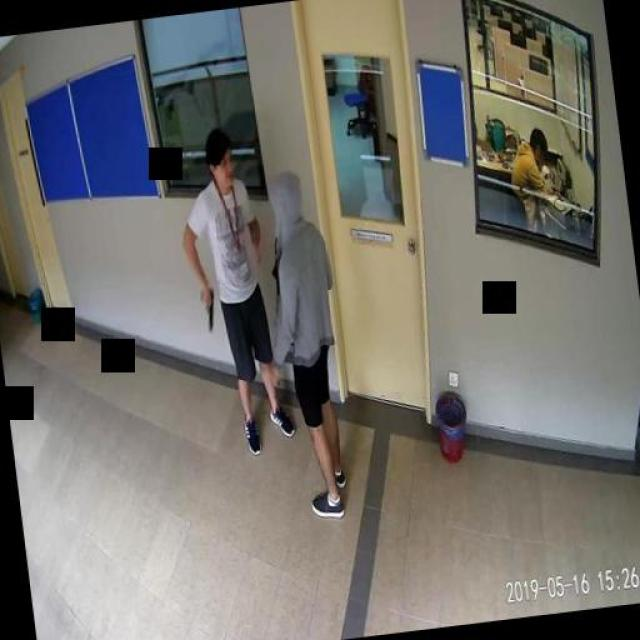gun: (198, 284, 218, 332)
